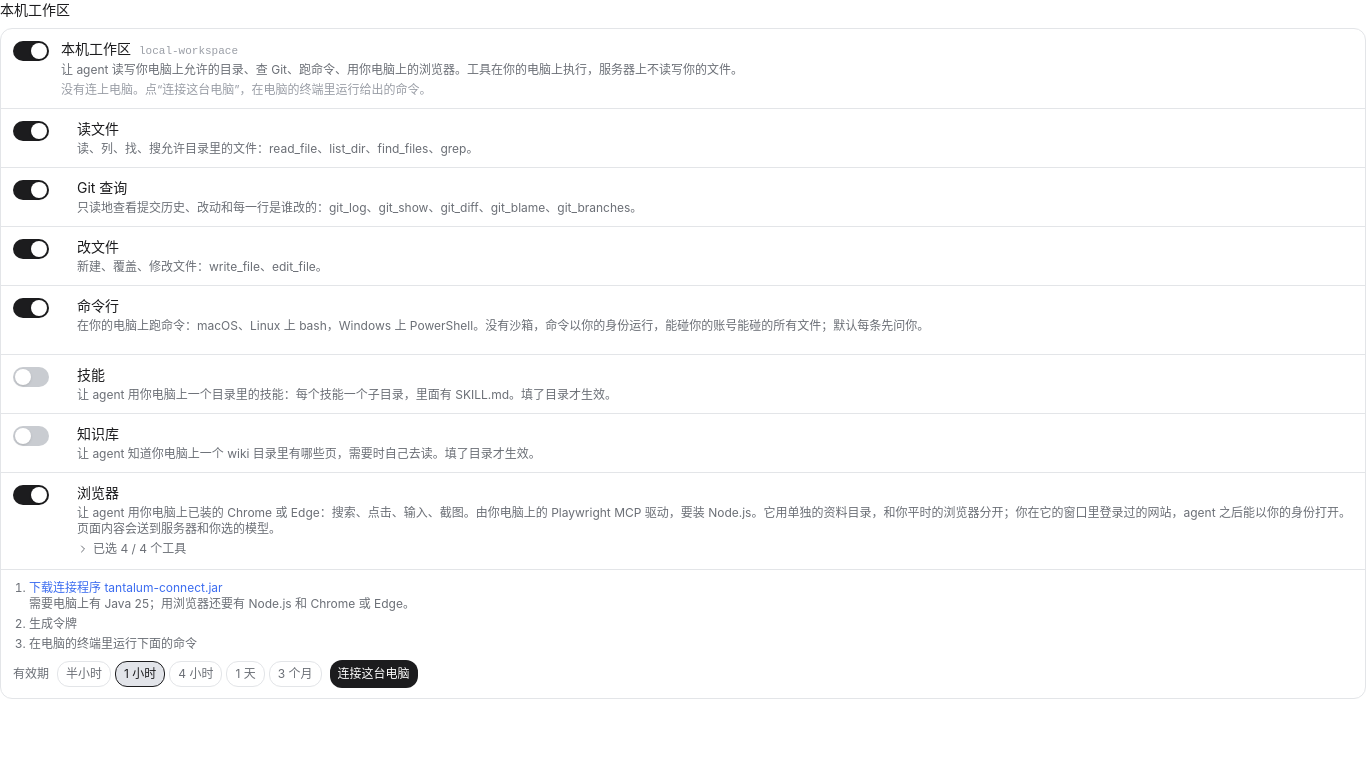
Test: LocalWorkspaceCard › the browser's tools › lists every tool with a line of explanation, all ticked by default, and nothing says changed
Click the button "已选 4 / 4 个工具" at (132, 549), box [77,541,186,557]
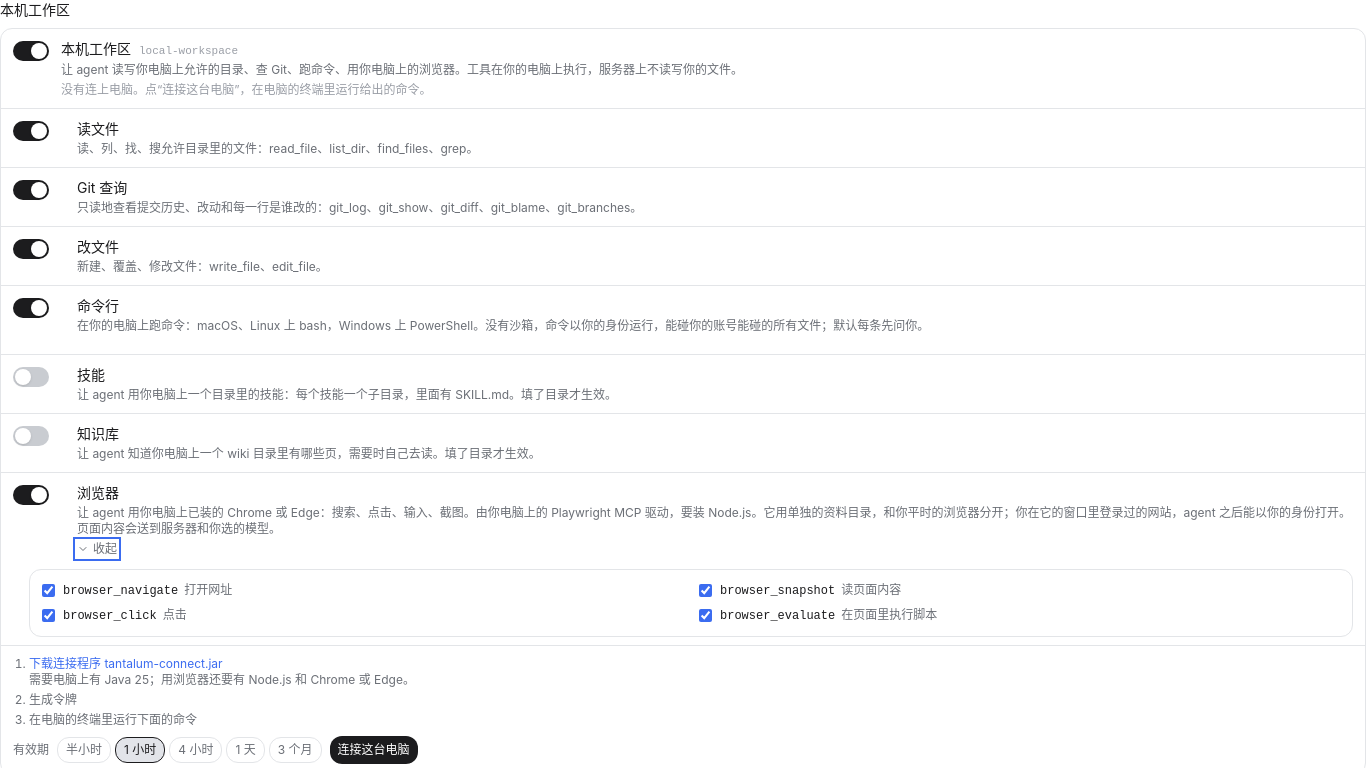
Expected: the text "在页面里执行脚本" is shown, [841,607,937,622]
Click the button "收起" at (97, 549), box [77,541,117,557]
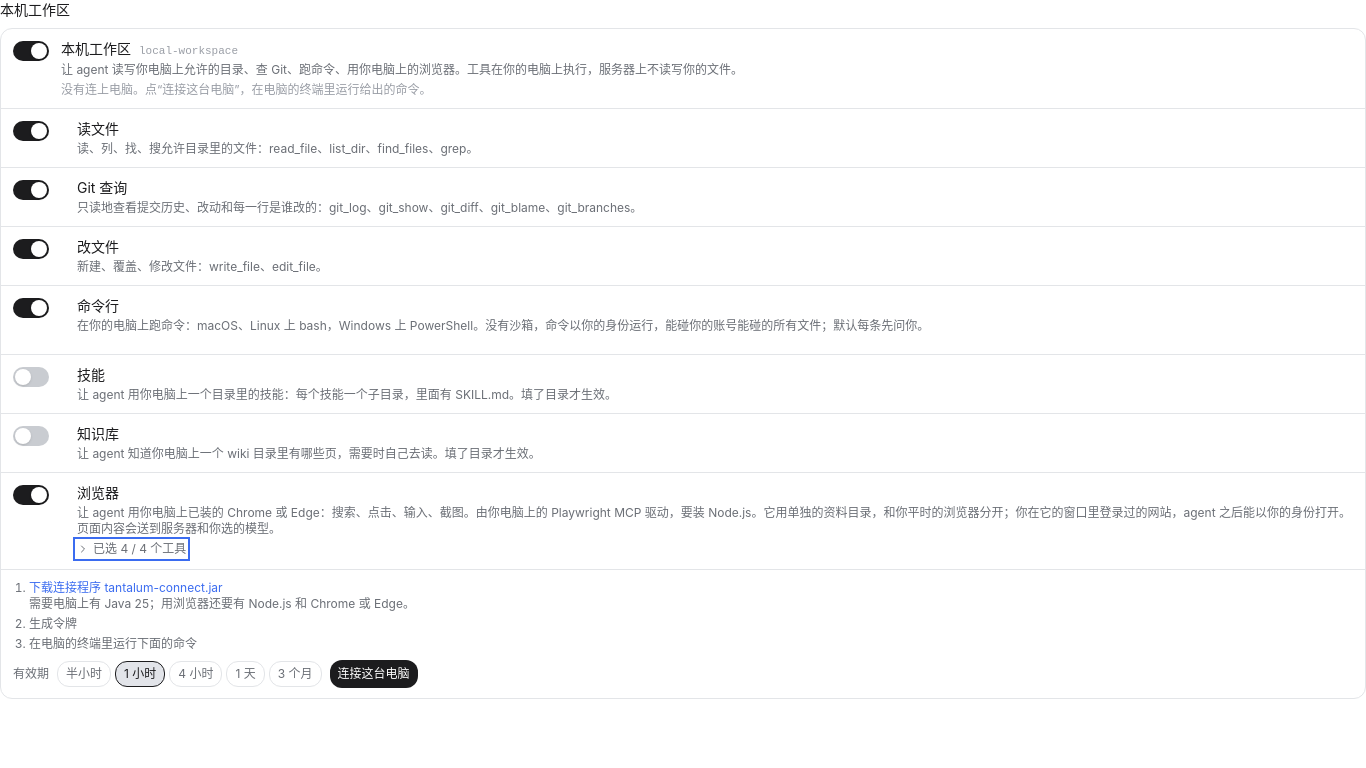
Expected: the list "浏览器的工具" is gone
